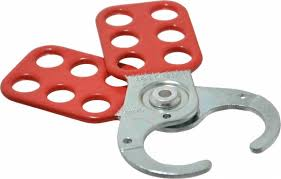hasp: (1, 1, 278, 178)
